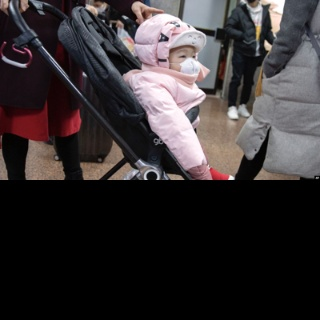with_mask: (169, 45, 200, 84)
